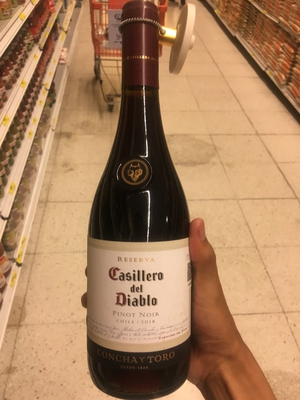casillero del diablo pinot noir: (86, 16, 196, 388)
